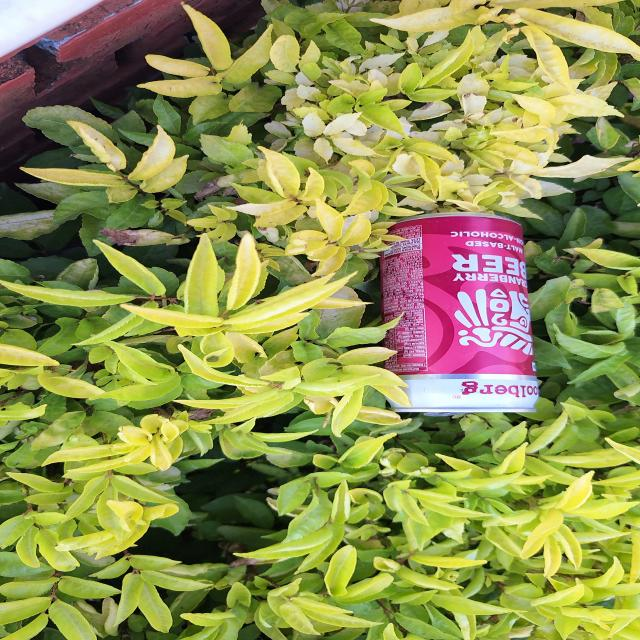Coolberg: (384, 212, 538, 406)
